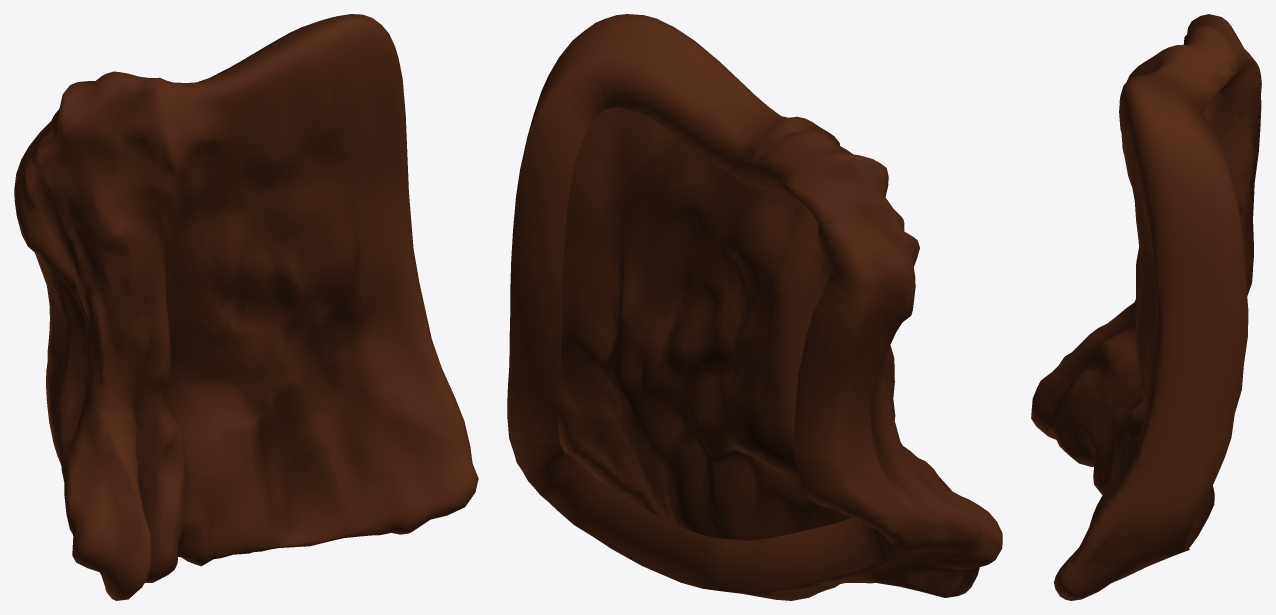
The model's file is env_digsiterock_wall02.fbx.
3 views of the same model, side by side, from view 1: azimuth 30°, elevation 25°; view 2: azimuth 150°, elevation 25°; view 3: azimuth 270°, elevation 25° (orthographic). The views are drawn at different scales.
Parts seen in each view (by area): view 1: env_digsiterock_wall02.003; view 2: env_digsiterock_wall02.003; view 3: env_digsiterock_wall02.003.
Boxes of the visible parts, box(x1,y1,x2,y2) form: env_digsiterock_wall02.003: box(14, 14, 478, 600); env_digsiterock_wall02.003: box(507, 14, 1002, 600); env_digsiterock_wall02.003: box(1031, 14, 1261, 600).
Size of the model in its own units: 480 by 576 by 244.
